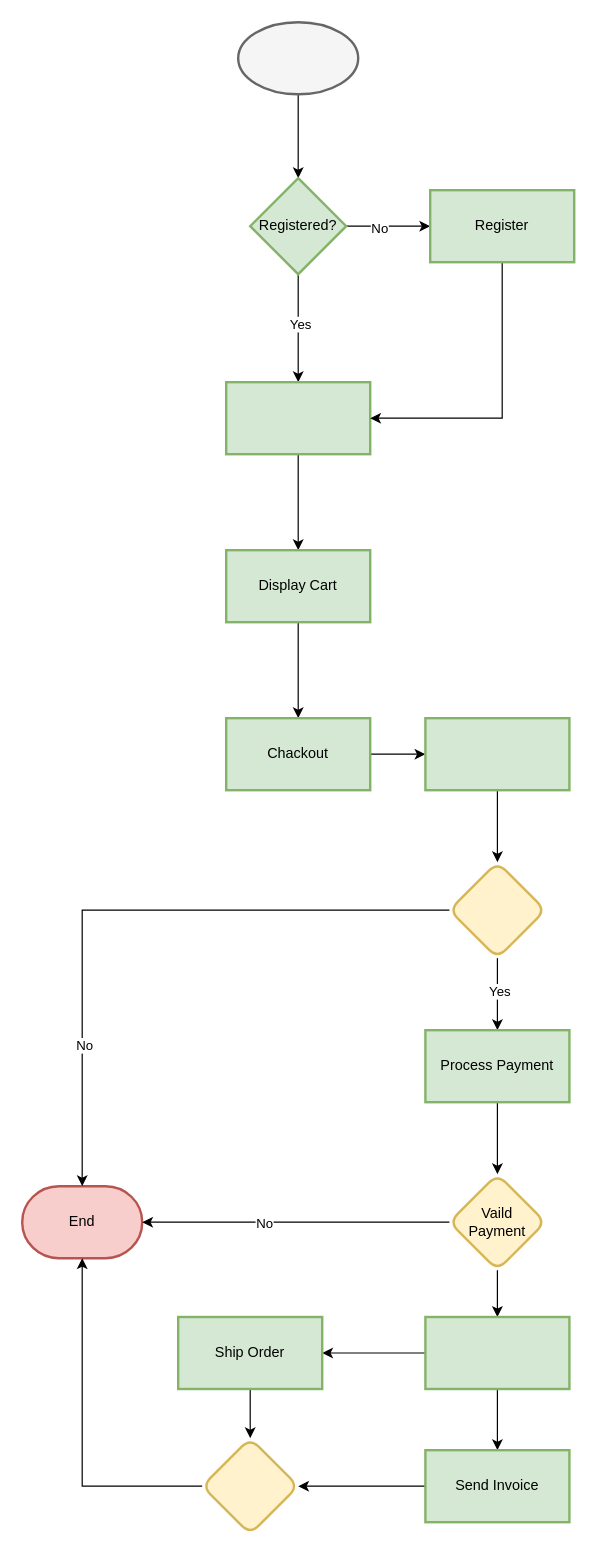
Some shapes in this 595 by 1555 pixel diagram are drawn without their labels. Each missing label, with the centre of its shape:
"Check Inventory" goes at [497,753].
"Login" goes at [297,417].
"Prepare Order" goes at [497,1352].
"Start" goes at [297,57].
"Stock Available" goes at [497,909].
